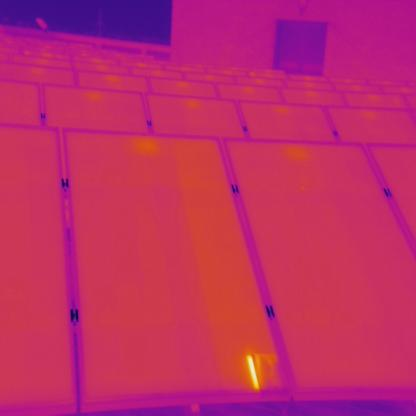hotspot: (240, 352, 284, 390)
